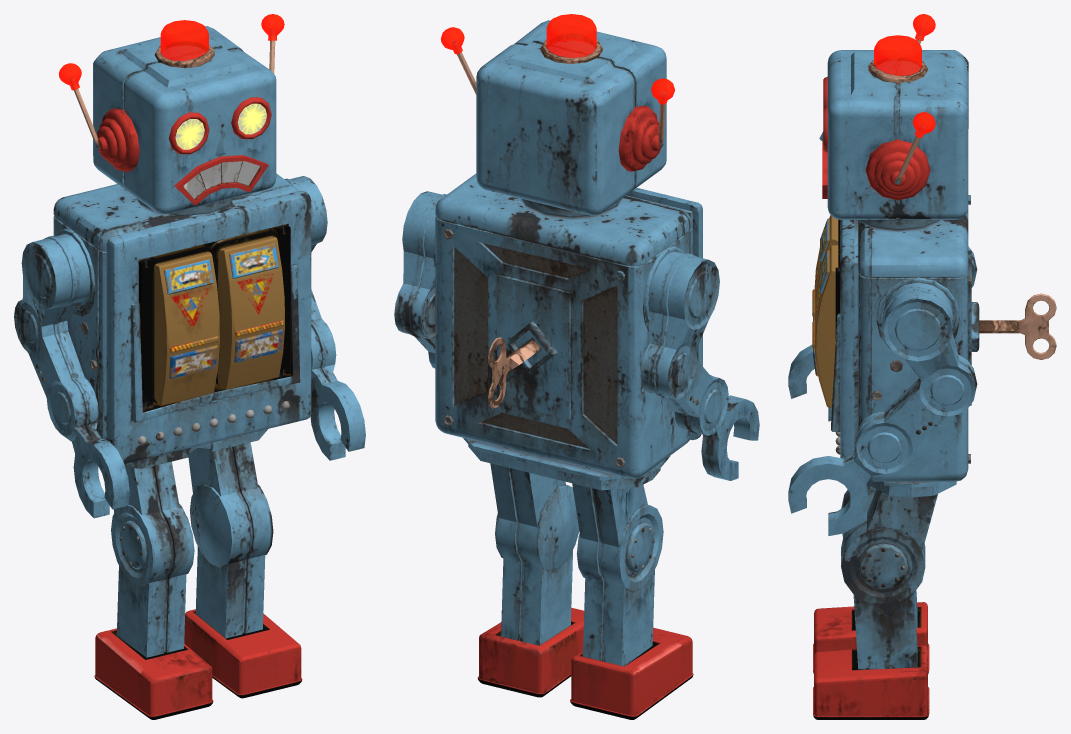
File: robot.glb
3 renders of one model, left to right at view 1: azimuth 30°, elevation 25°; view 2: azimuth 150°, elevation 25°; view 3: azimuth 270°, elevation 25°, orthographic. The views are drawn at different scales.
Visible parts, largest first — view 1: Robot_80s (×2); view 2: Robot_80s (×2); view 3: Robot_80s (×2).
Part boxes in pixels (box(x1,y1,x2,y2)): Robot_80s (×2): box(14, 14, 365, 719); Robot_80s (×2): box(394, 14, 759, 719); Robot_80s (×2): box(788, 14, 1056, 719).
Size of the model in its own units: 0.8806 by 2 by 0.7585.
Materials: 2 (2 with a texture image).
